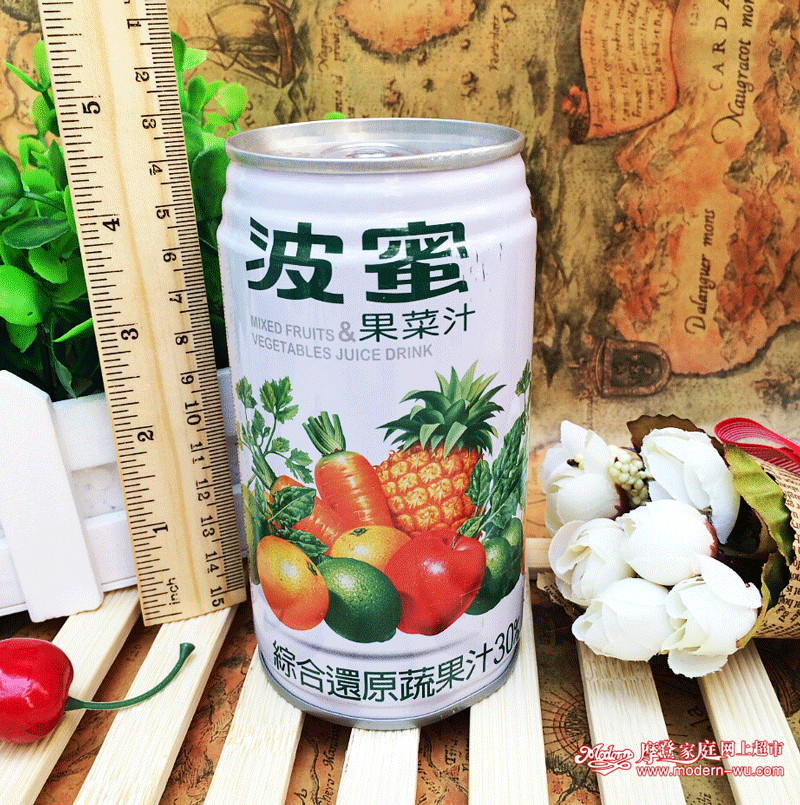vegetables juice: (226, 183, 526, 715)
